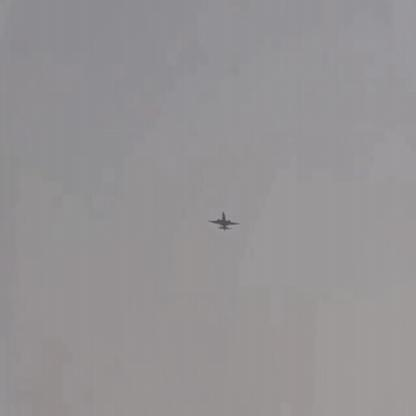CIV_Plane: (207, 211, 241, 230)
